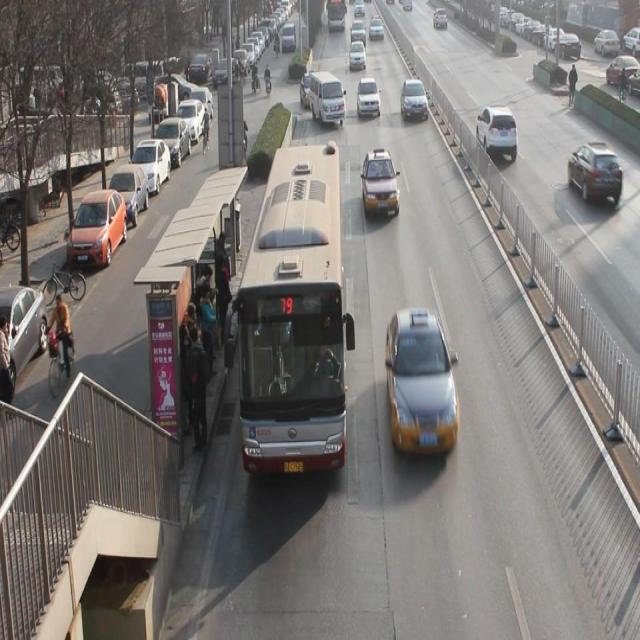car: (385, 314, 460, 459), (573, 142, 624, 205), (362, 150, 400, 217), (476, 107, 518, 164), (402, 82, 428, 124), (356, 80, 382, 121), (300, 70, 320, 111), (350, 42, 367, 72), (350, 21, 366, 47), (368, 20, 385, 42)
truck: (310, 74, 346, 130)
van: (240, 147, 344, 470)
